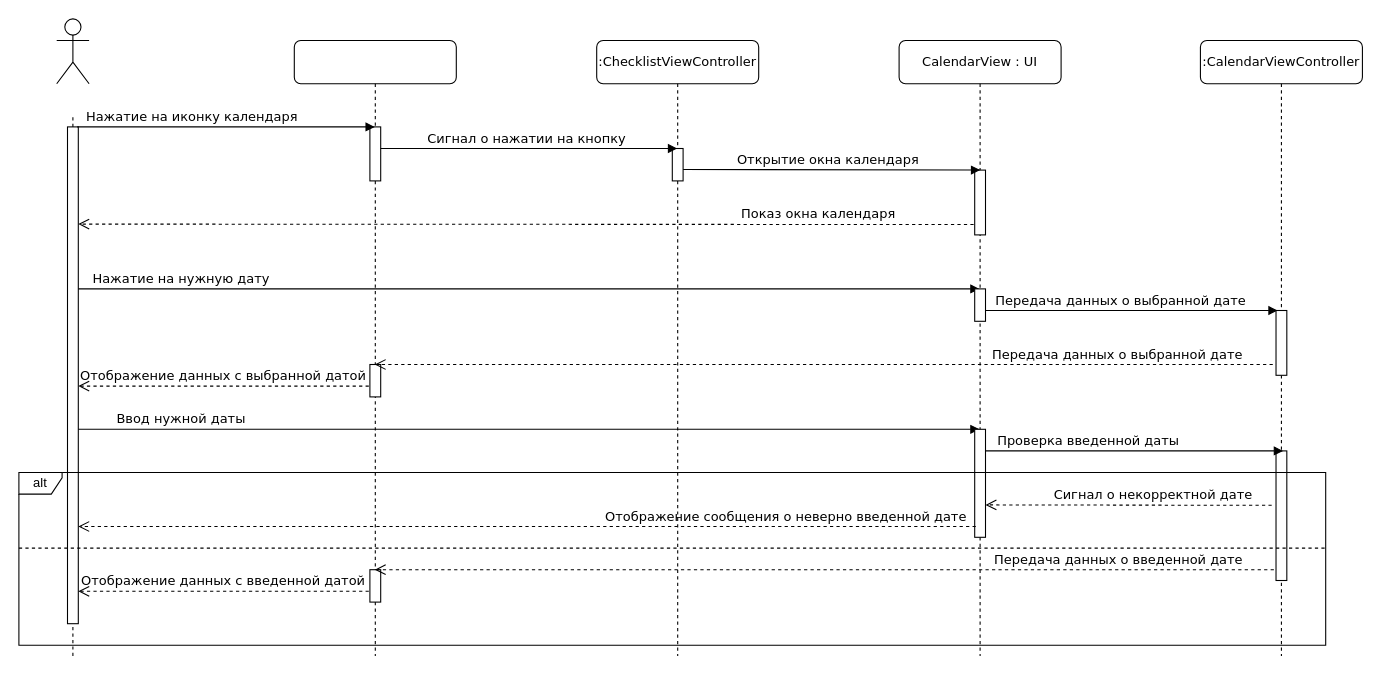
This 1381x676 diagram has some shape labels left out. Each missing label, with the box of its shape:
ChecklistView : UI: (293, 39, 456, 656)
Пользователь: (56, 18, 89, 84)
